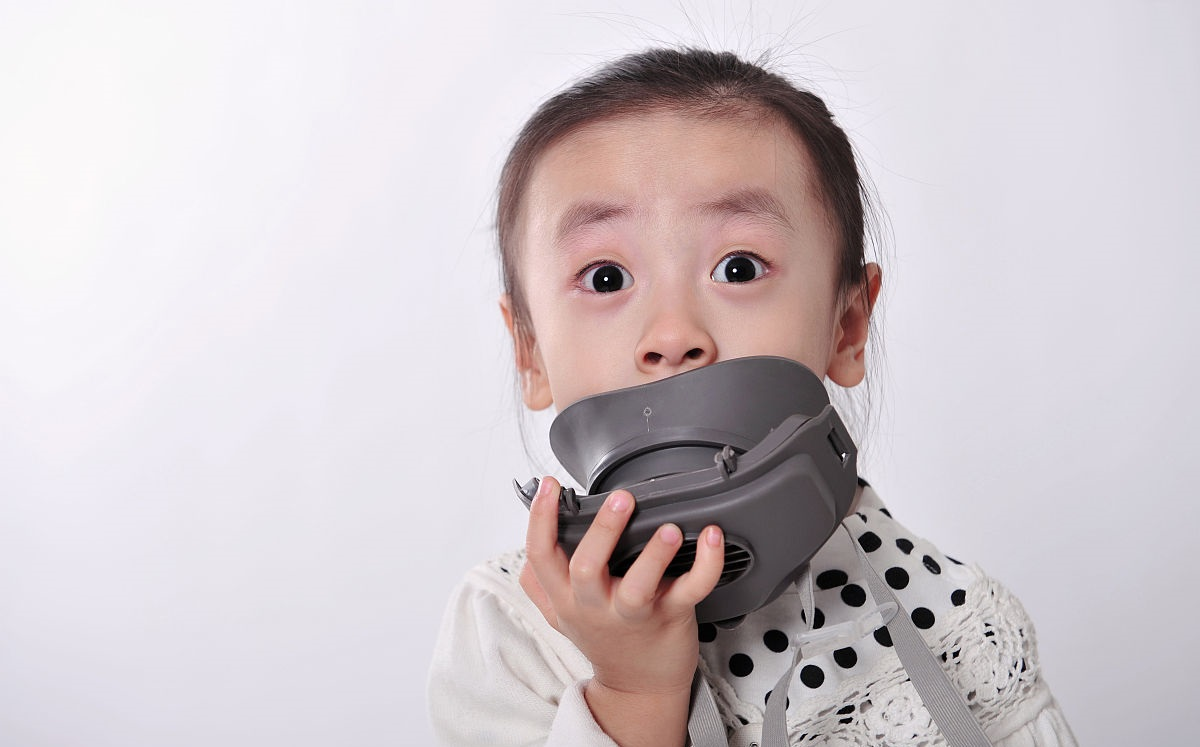face_mask: (527, 119, 825, 504)
